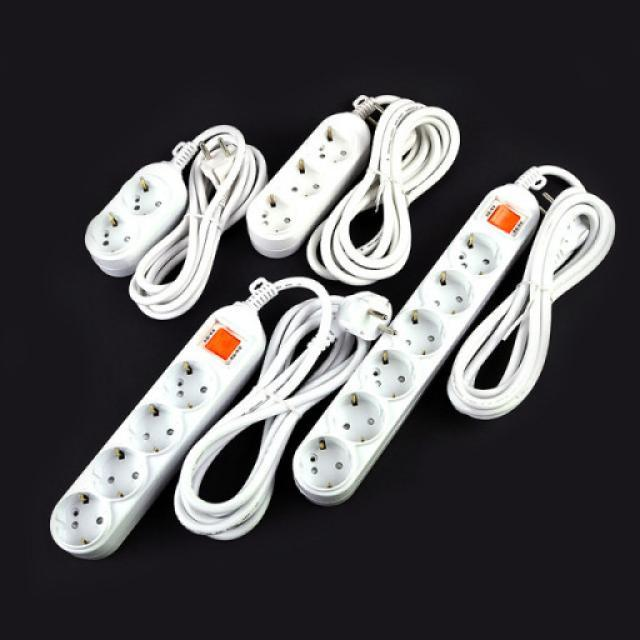typeb: (312, 190, 600, 565), (18, 315, 235, 591), (251, 94, 448, 266), (61, 112, 237, 274)
